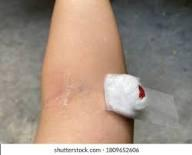Bandage: (104, 74, 146, 117)
